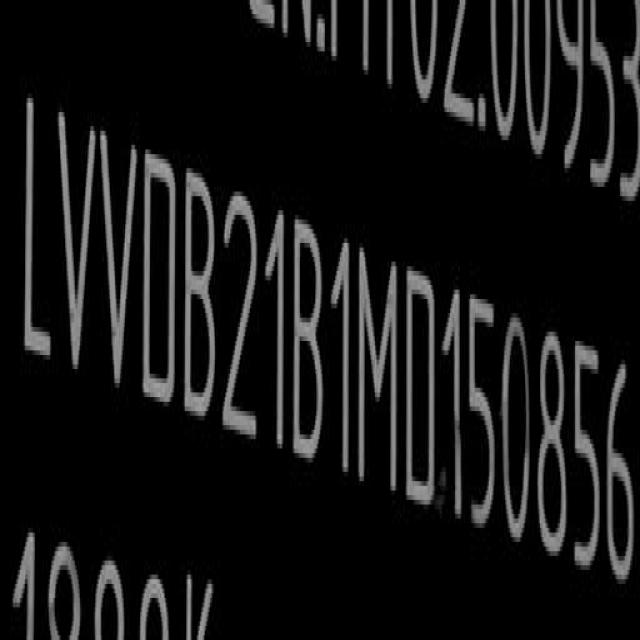0: (504, 310, 533, 549)
1: (264, 202, 288, 458), (330, 227, 351, 481), (442, 279, 463, 526)
2: (222, 187, 257, 445)
5: (466, 290, 494, 538), (574, 337, 602, 577)
6: (607, 347, 639, 589)
8: (538, 327, 570, 562)
B: (186, 166, 220, 425), (294, 213, 326, 465)
D: (140, 143, 178, 413), (406, 261, 436, 514)
L: (20, 88, 54, 377)
M: (359, 242, 400, 500)
V: (53, 103, 96, 384), (99, 124, 140, 400)
